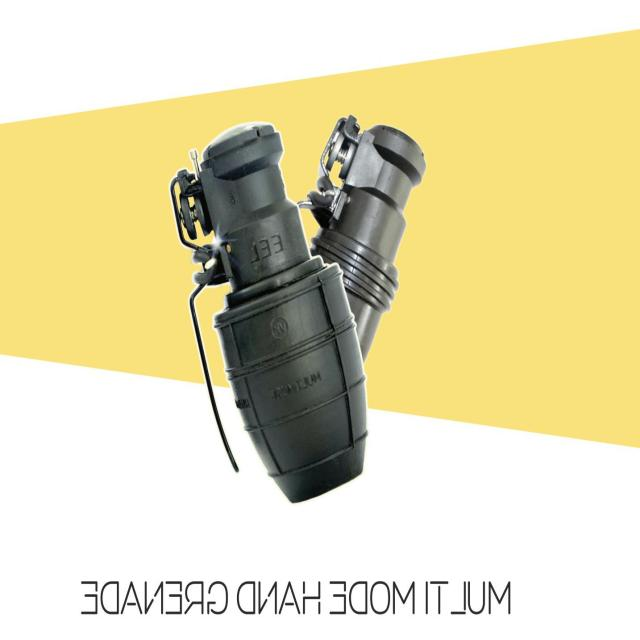grenade: (170, 122, 369, 504), (311, 117, 427, 362)
